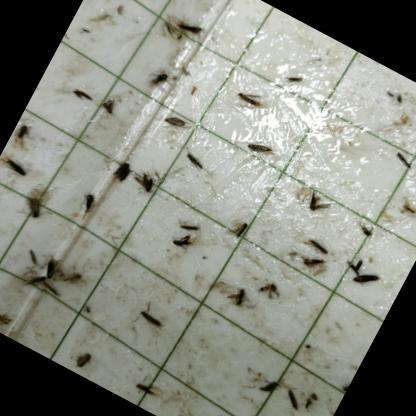prays_oleae: (123, 294, 174, 346), (20, 183, 59, 225), (230, 79, 269, 119), (129, 163, 166, 202), (170, 12, 210, 48), (300, 184, 336, 222), (219, 276, 252, 316), (36, 247, 69, 286), (330, 364, 358, 408), (6, 116, 38, 154), (90, 90, 124, 124), (16, 266, 50, 300), (294, 248, 328, 282), (277, 382, 311, 416), (130, 373, 166, 405), (302, 232, 340, 261), (163, 228, 195, 262), (58, 258, 88, 294), (348, 266, 381, 298), (108, 154, 138, 189), (242, 132, 274, 164), (387, 146, 416, 180), (255, 274, 285, 306), (76, 184, 102, 220), (144, 65, 174, 96), (178, 149, 208, 180), (0, 154, 30, 184), (280, 67, 309, 98), (67, 343, 96, 374), (19, 238, 47, 269), (336, 250, 364, 281), (174, 212, 203, 240), (160, 110, 188, 138), (301, 388, 322, 416), (355, 221, 377, 243), (0, 311, 13, 331)
